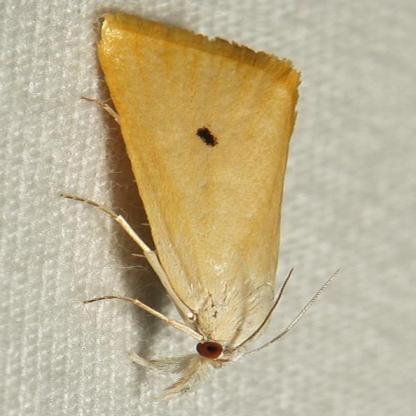stem-borer: (67, 6, 305, 402)
